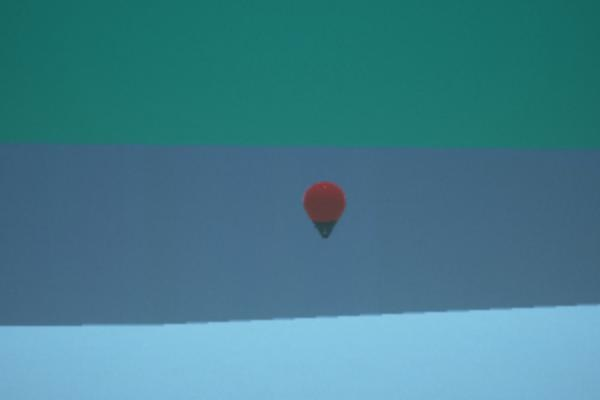buoy: (300, 181, 348, 241)
